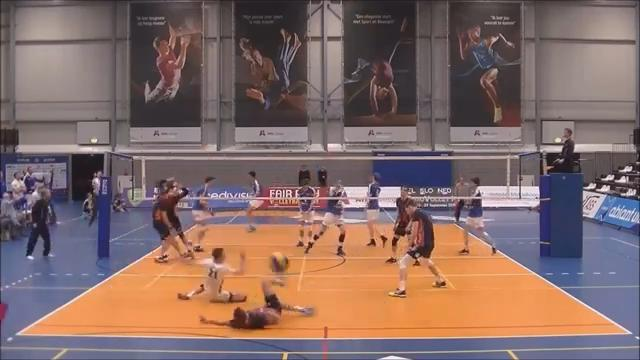Dig: (196, 277, 323, 333), (176, 246, 251, 304)
Player: (389, 200, 445, 297), (304, 181, 346, 255), (459, 177, 496, 254), (152, 186, 186, 262), (161, 180, 193, 257), (386, 187, 410, 263), (192, 176, 215, 252), (366, 173, 387, 246), (297, 179, 314, 246), (246, 199, 262, 231)
ball: (268, 251, 293, 273)
